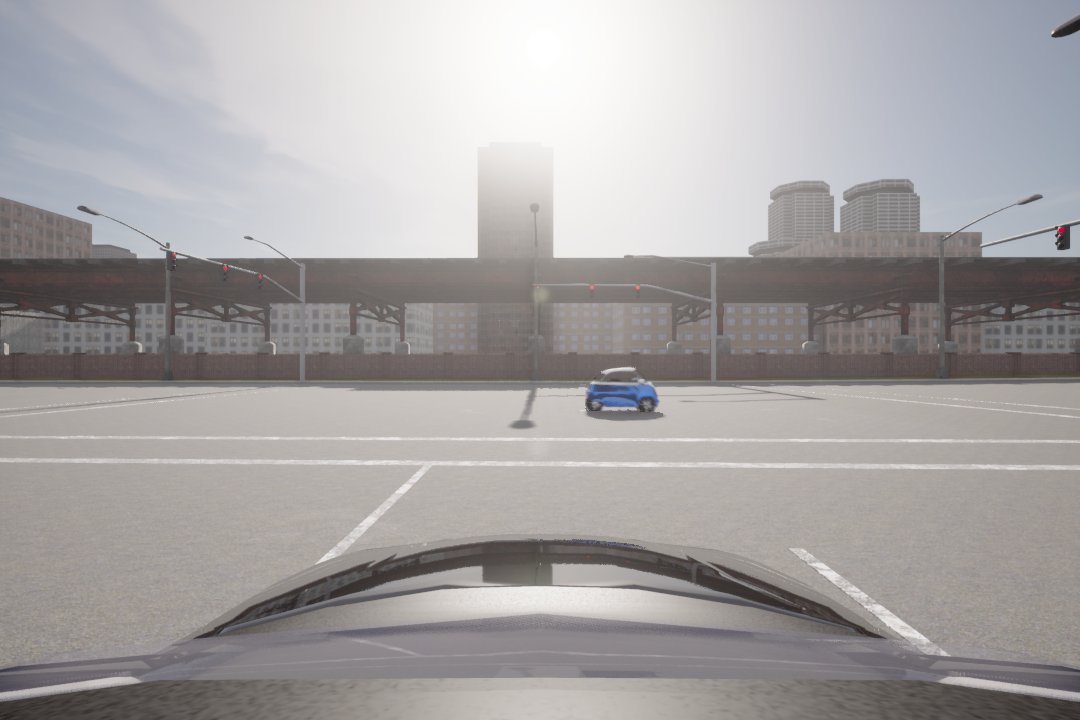TrafficLight: (1053, 223, 1071, 251), (218, 261, 231, 283), (166, 250, 178, 272), (255, 271, 266, 291), (634, 282, 641, 302), (588, 281, 594, 301)
